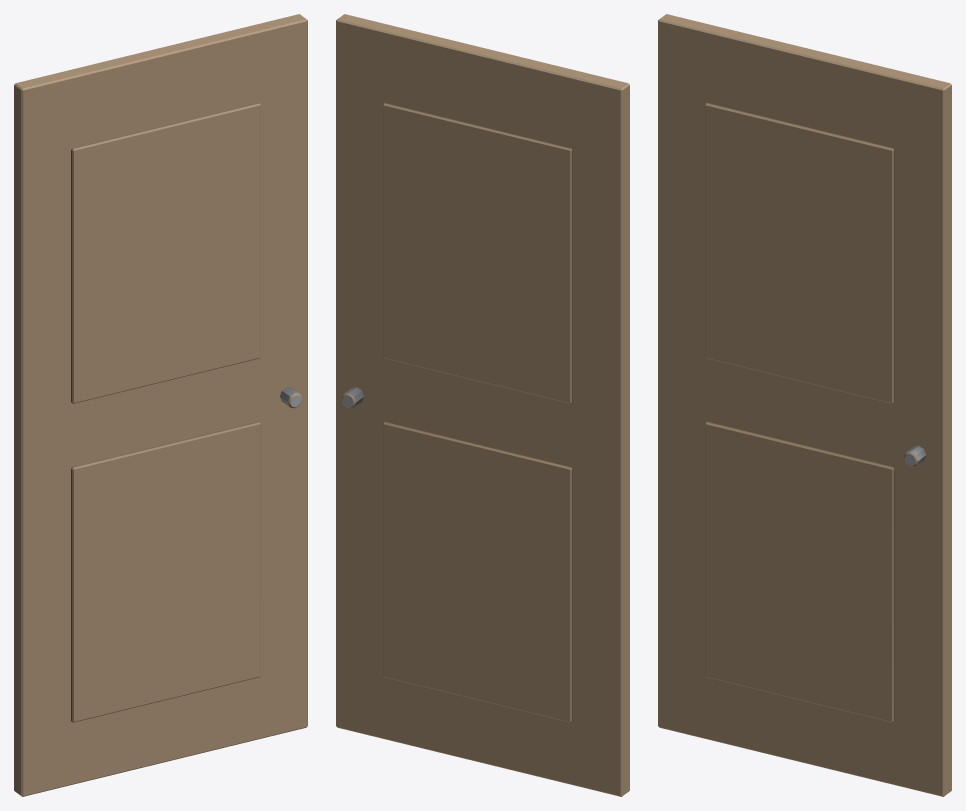
Rendered from door_wood.glb.
3 views of the same model, side by side, from view 1: azimuth 30°, elevation 25°; view 2: azimuth 150°, elevation 25°; view 3: azimuth 330°, elevation 25° (orthographic).
Visible parts, largest first — view 1: door_wood; view 2: door_wood; view 3: door_wood.
Boxes of the visible parts, x1=… form: door_wood: x1=14, y1=14, x2=307, y2=796; door_wood: x1=336, y1=14, x2=629, y2=796; door_wood: x1=658, y1=14, x2=951, y2=796.
Size of the model in its own units: 0.86 by 2.03 by 0.155.
